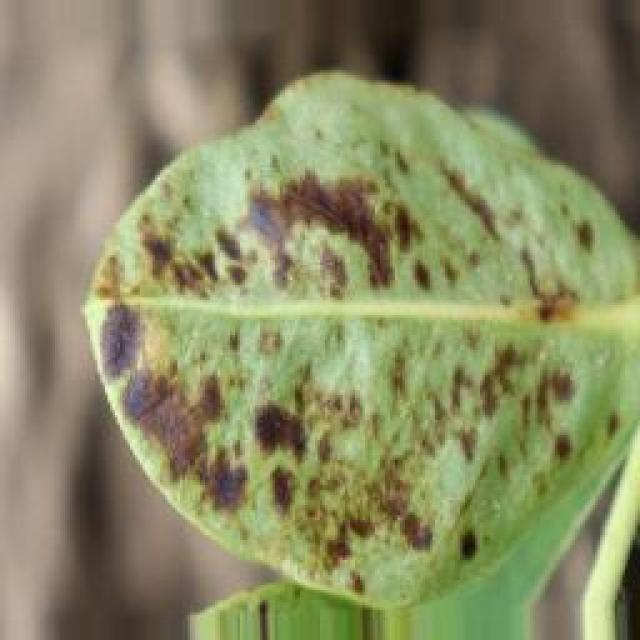Whitefly: (69, 138, 630, 576)
